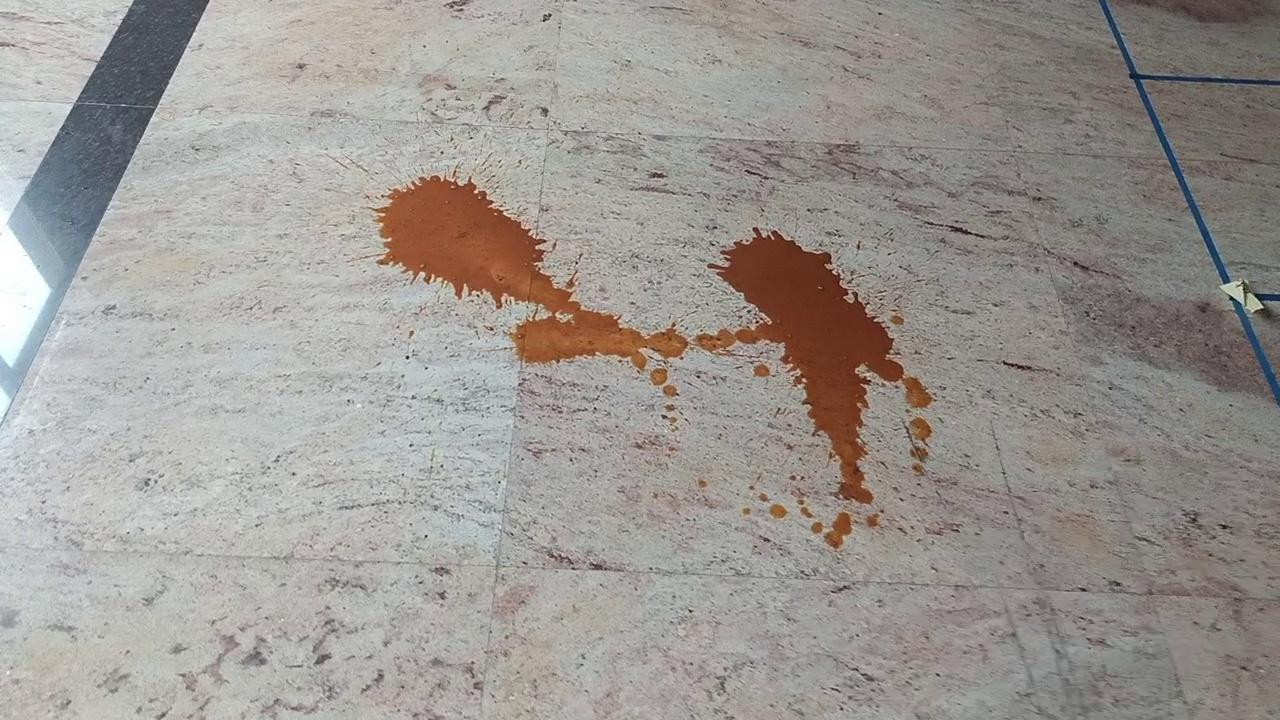dirty_floor: (379, 172, 935, 545)
